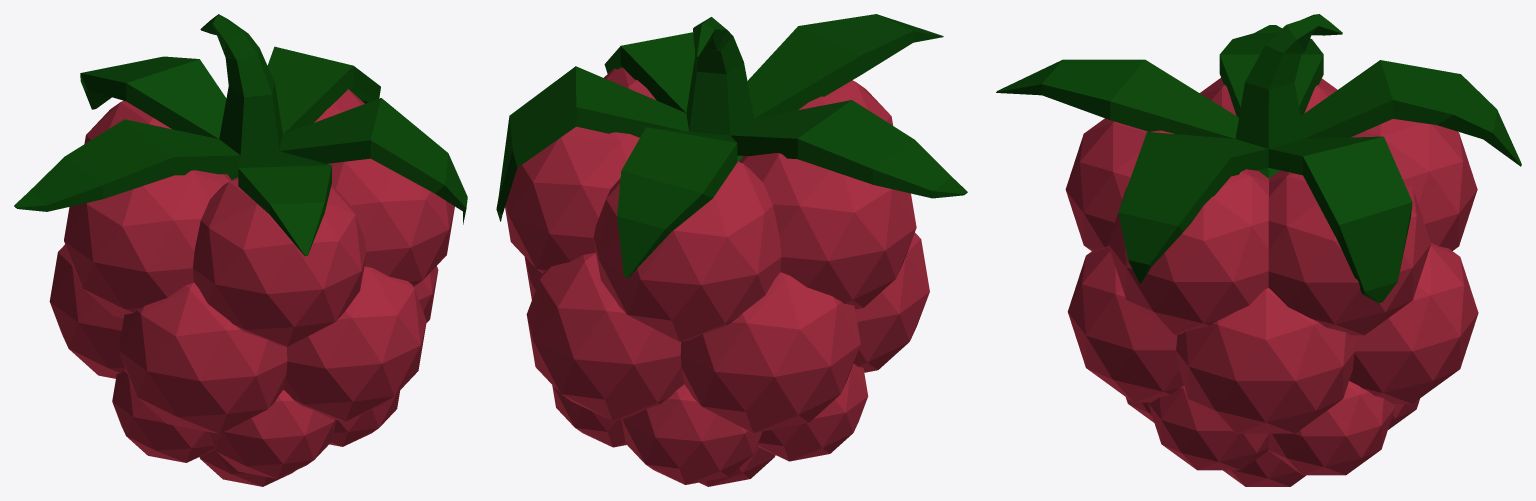
File: малина.fbx
The picture shows the model from 3 angles, left to right: view 1: azimuth 30°, elevation 25°; view 2: azimuth 150°, elevation 25°; view 3: azimuth 270°, elevation 25°; orthographic projection. The views are drawn at different scales.
Visible parts, largest first — view 1: Icosphere.001; view 2: Icosphere.001; view 3: Icosphere.001.
Boxes of the visible parts, bbox=[...] form: Icosphere.001: bbox=[14, 14, 467, 486]; Icosphere.001: bbox=[496, 14, 967, 486]; Icosphere.001: bbox=[996, 14, 1521, 486].
Size of the model in its own units: 535 by 571 by 586.
